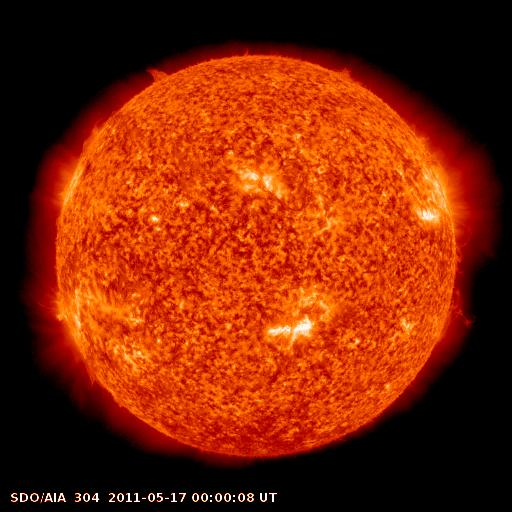prominence: (435, 282, 479, 337), (74, 109, 121, 160), (137, 56, 174, 91), (329, 53, 363, 90)
